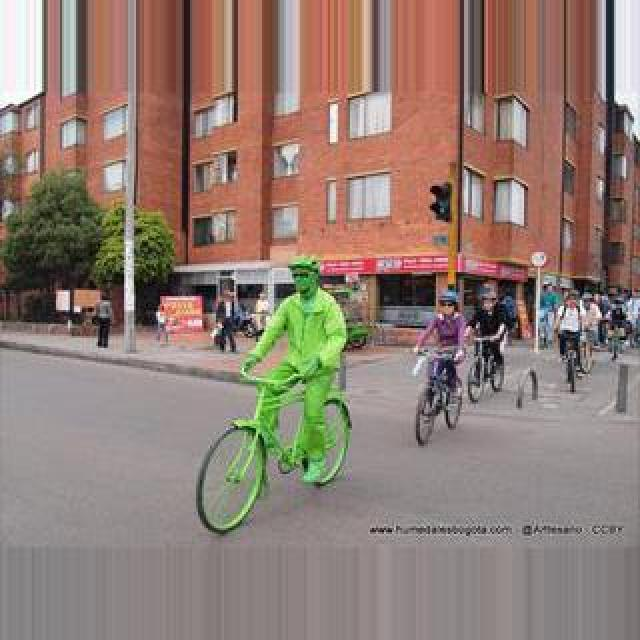MC-Bike: (236, 256, 348, 490), (412, 294, 472, 412), (466, 288, 514, 392), (554, 292, 584, 372), (212, 296, 240, 354), (94, 296, 112, 350)
Person: (196, 302, 354, 542), (414, 348, 466, 448), (470, 340, 506, 402), (560, 328, 582, 392)
